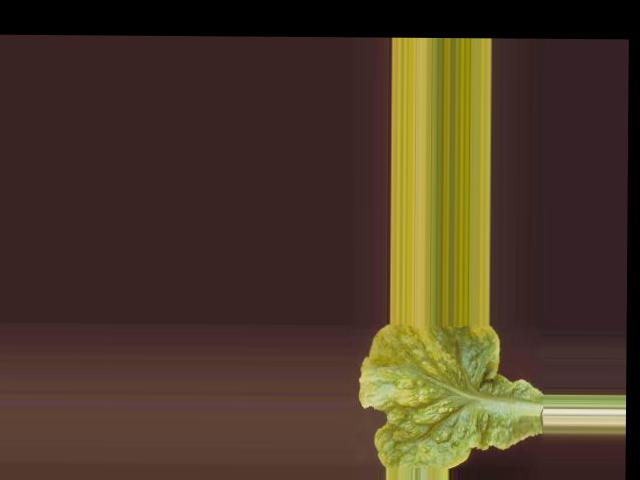lettuce: (380, 342, 540, 465)
